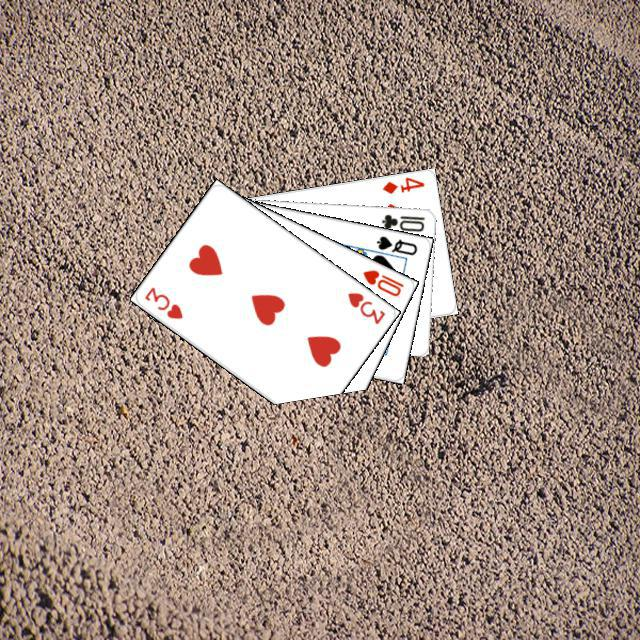10c: (377, 209, 426, 233)
10h: (358, 265, 406, 298)
3h: (139, 282, 185, 321), (342, 287, 387, 326)
4d: (377, 172, 426, 195)
Qs: (372, 231, 419, 257)
